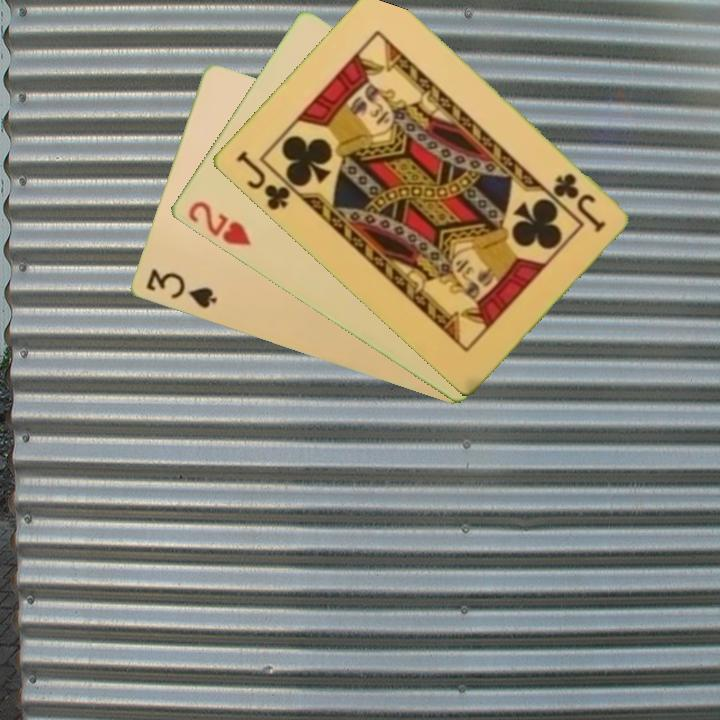2h: (184, 197, 254, 249)
3s: (142, 265, 220, 312)
Jc: (231, 147, 302, 213), (548, 169, 608, 235)
